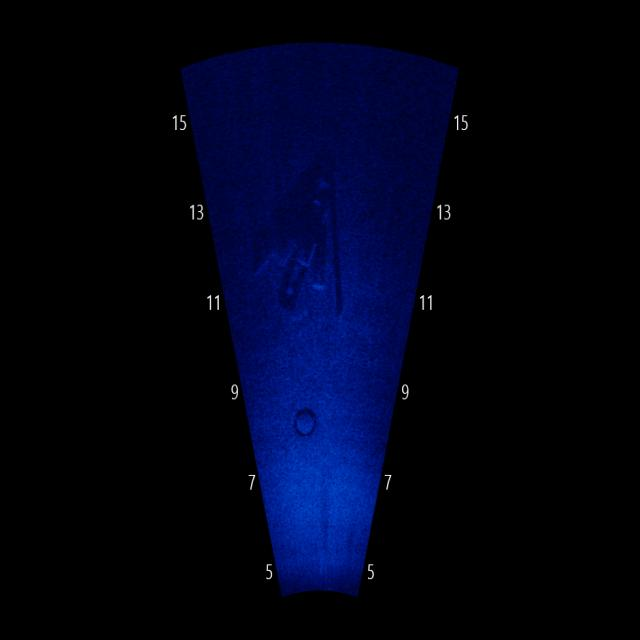triangle: (253, 153, 352, 317)
